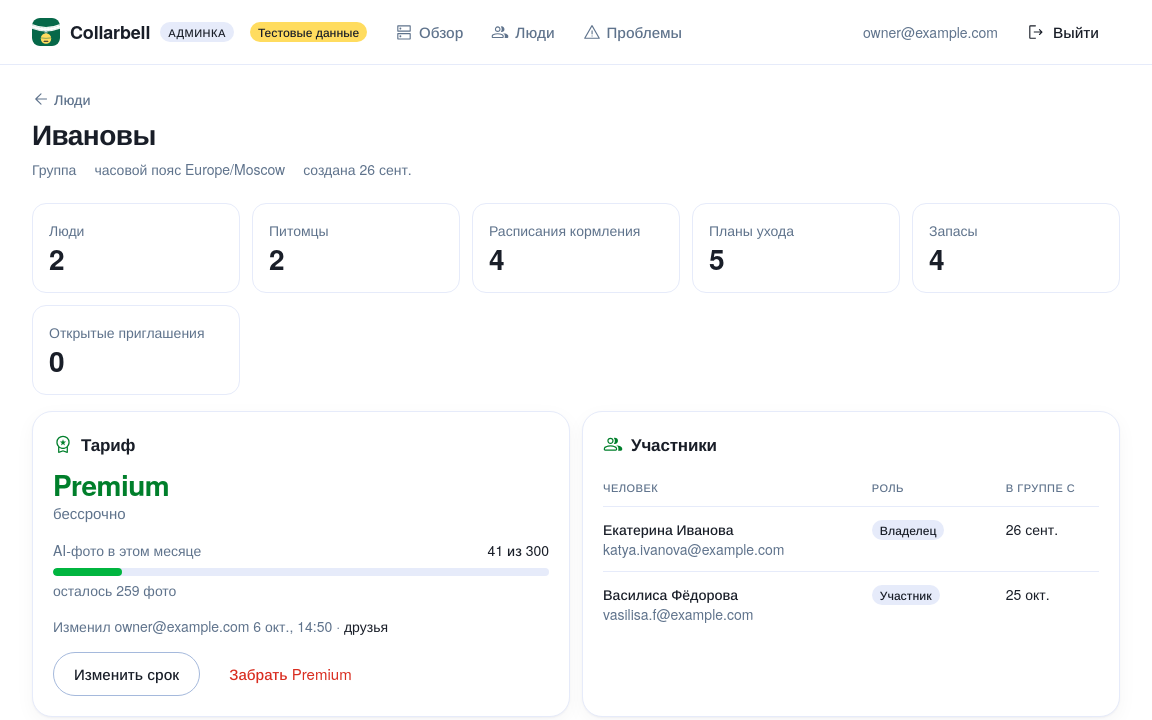
Тариф › takes Premium back only after a confirmation
Click the button "Забрать Premium" at (290, 674), box [208, 652, 373, 696]
(page scrolled)
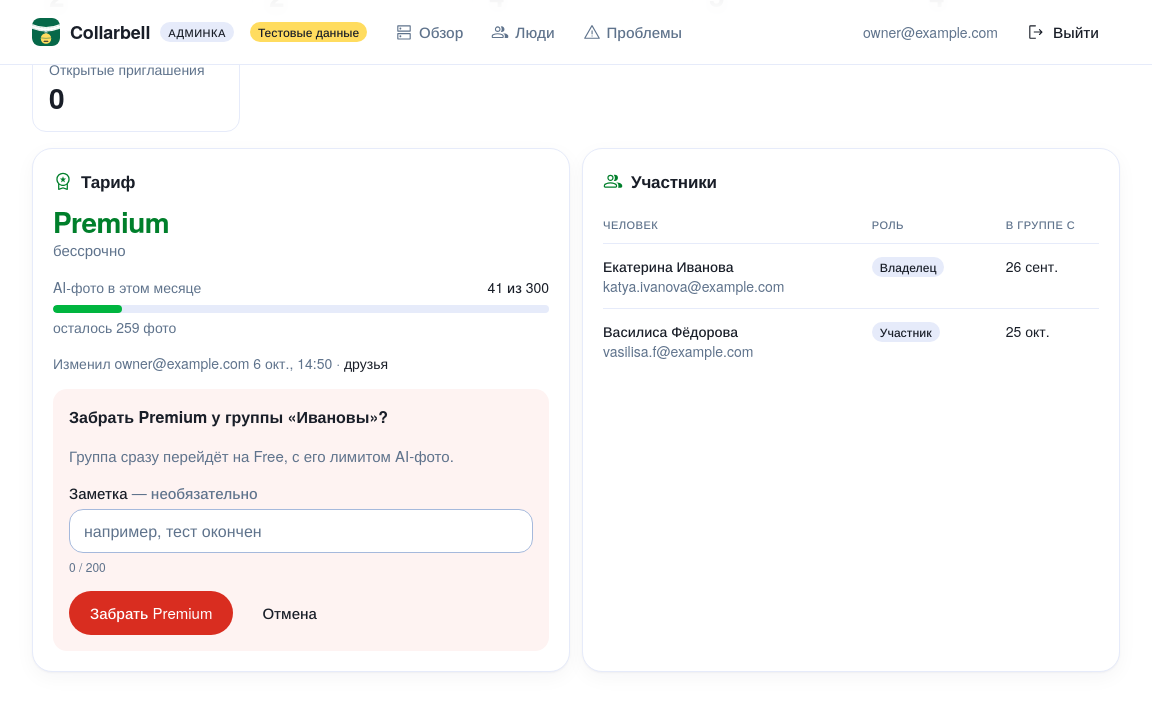
Click the button "Отмена" at (290, 613), box [241, 591, 338, 635]
(page scrolled)
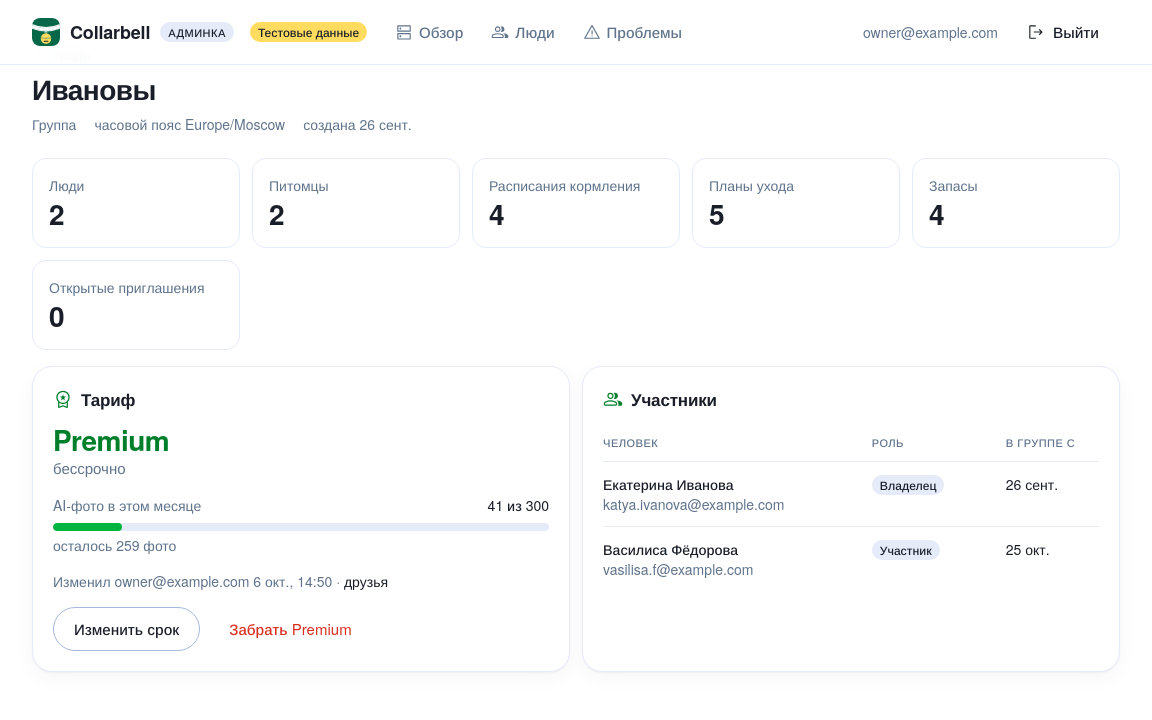
Expected: the text "Premium" is shown, [53, 419, 169, 460]
Click the button "Забрать Premium" at (290, 629), box [208, 607, 373, 651]
(page scrolled)
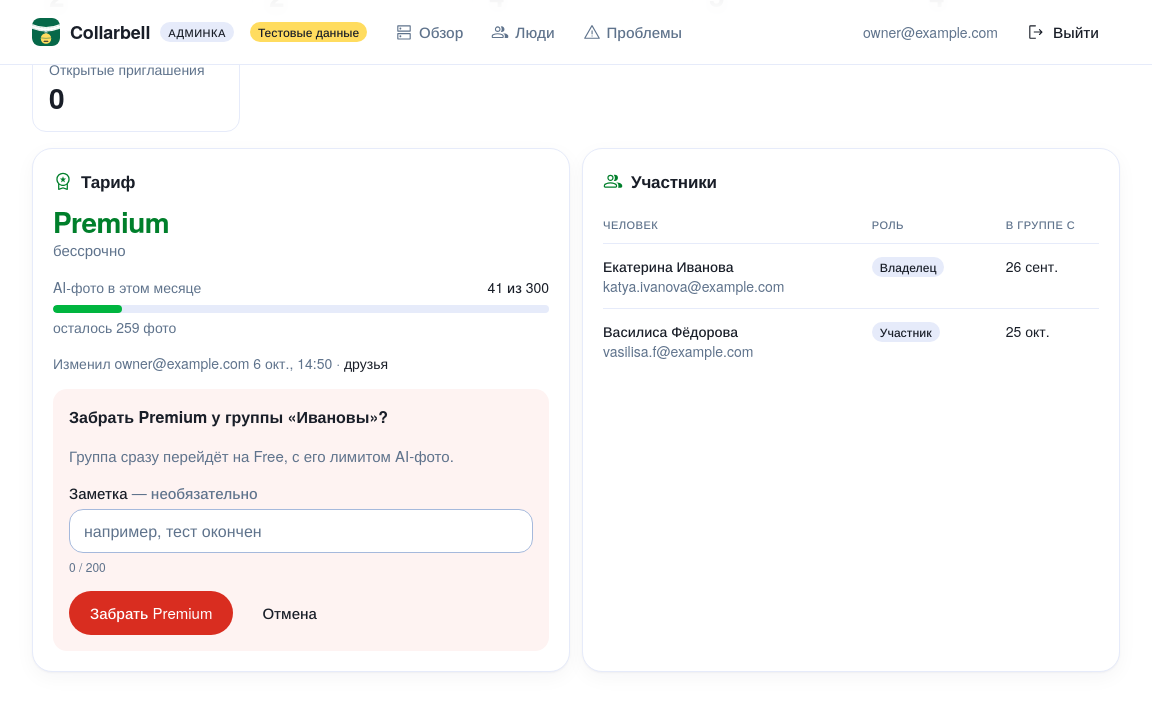
Type "тест окончен" into the field labelled "Заметка — необязательно" at (301, 531), box [69, 509, 533, 553]
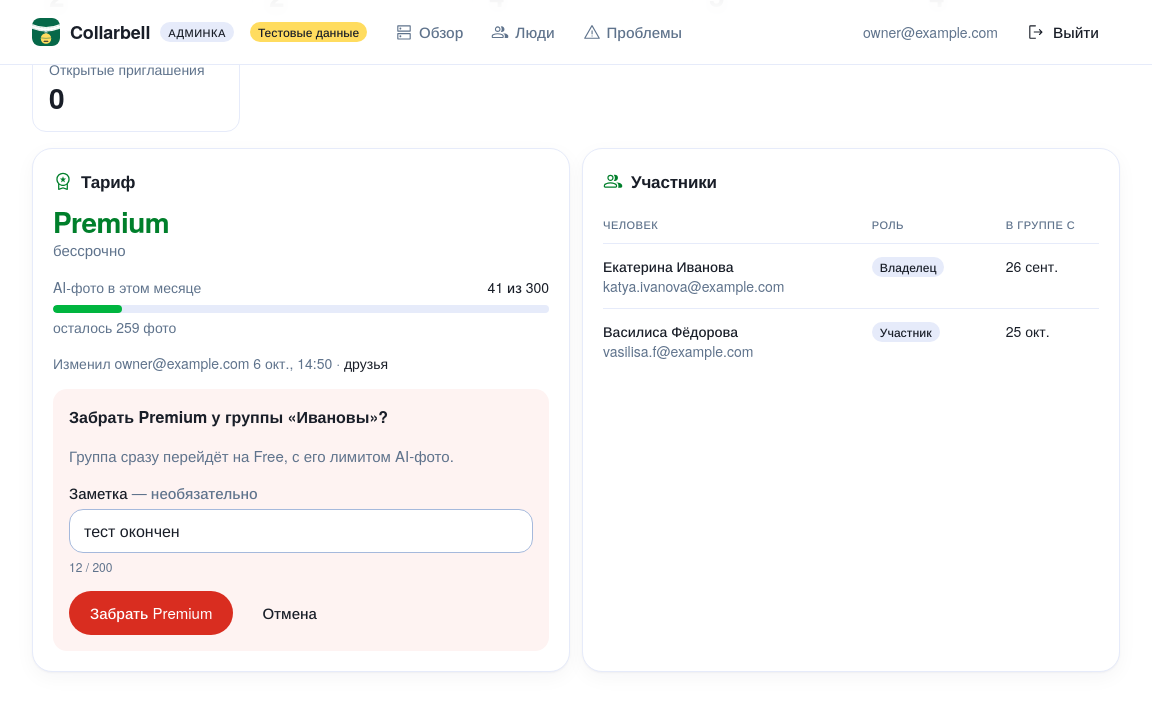
Click the button "Забрать Premium" at (151, 613), box [69, 591, 233, 635]
(page scrolled)
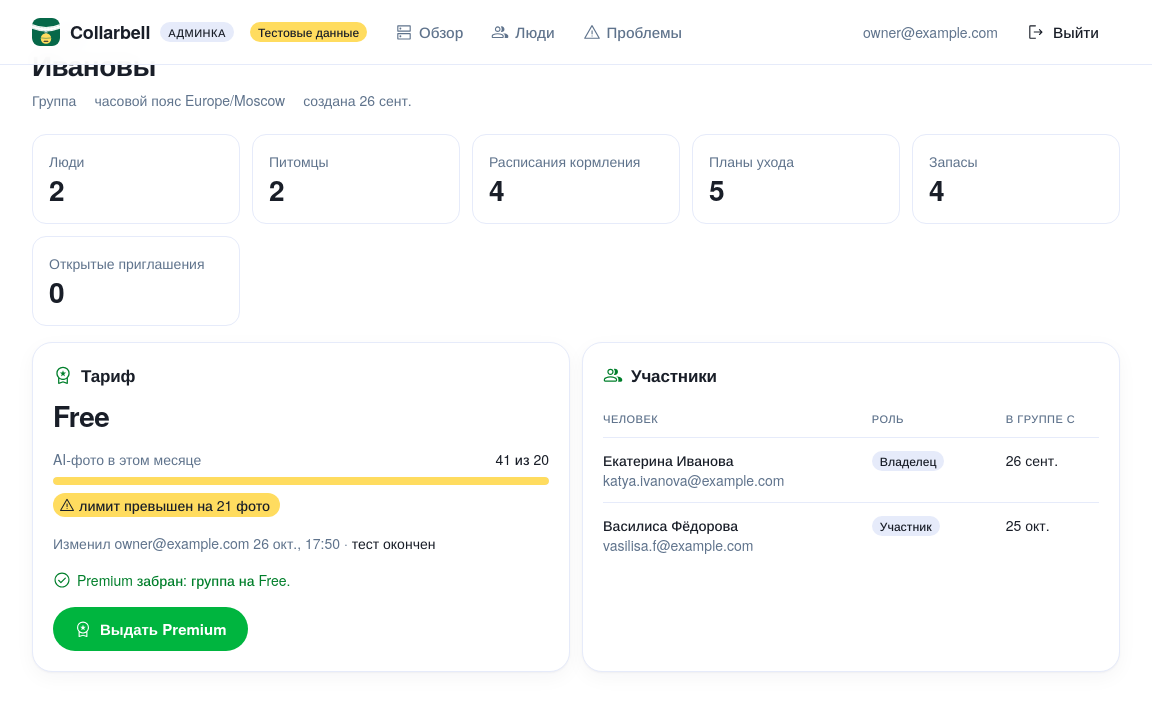
Result: the text "Free" is shown at [53, 395, 109, 436]
Result: the text "тест окончен" is shown at [352, 533, 436, 553]
Result: the button "Выдать Premium" is shown at [53, 607, 248, 651]
